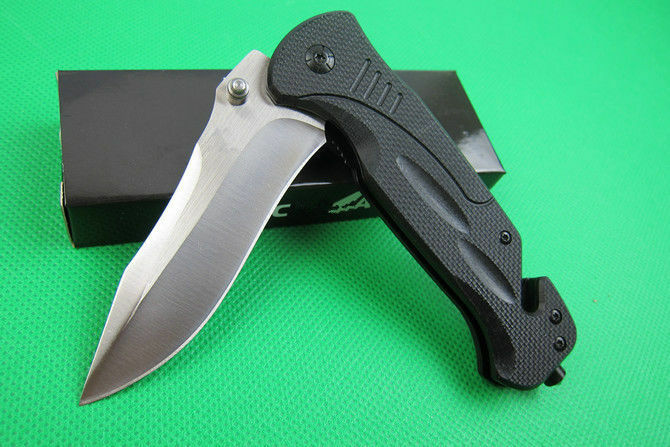knief: (79, 36, 602, 408)
